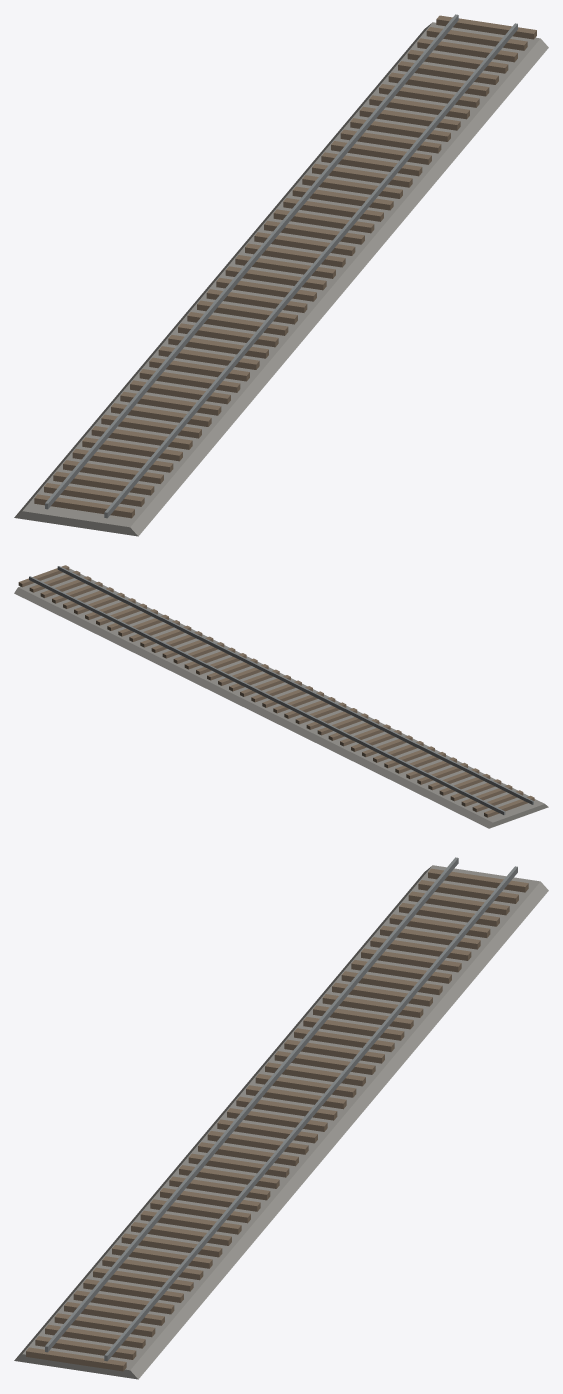
The model's file is rail_01210.glb.
3 views of the same model, one above another, from view 1: azimuth 90°, elevation 25°; view 2: azimuth 150°, elevation 25°; view 3: azimuth 270°, elevation 25° (orthographic). The views are drawn at different scales.
Visible parts, largest first — view 1: Sleepers, Ballast, Rails; view 2: Sleepers, Ballast, Rails; view 3: Sleepers, Ballast, Rails.
Boxes of the visible parts, box(x1,y1,x2,y2) form: Sleepers: box(34, 15, 536, 518); Ballast: box(14, 22, 548, 536); Rails: box(45, 14, 517, 518); Sleepers: box(18, 565, 534, 817); Ballast: box(14, 568, 548, 828); Rails: box(29, 566, 533, 815); Sleepers: box(26, 868, 528, 1371); Ballast: box(14, 865, 548, 1379); Rails: box(45, 857, 517, 1361).
Size of the model in its own units: 27.27 by 0.48 by 12.15.
